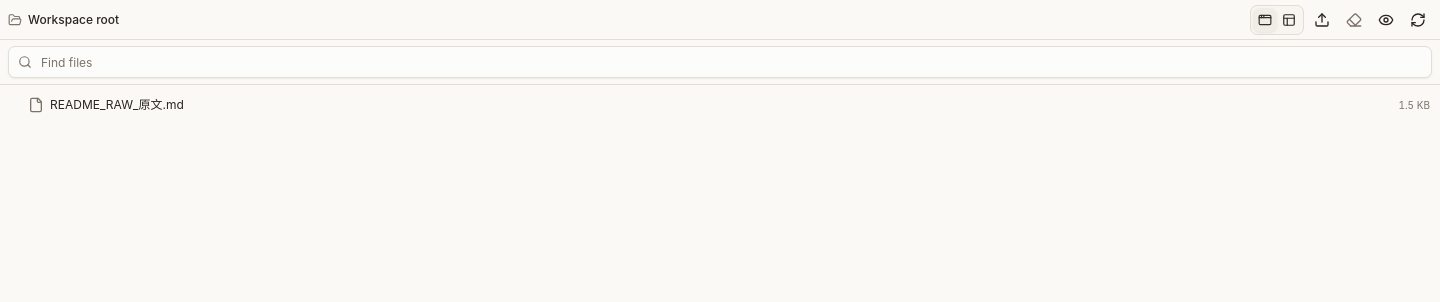
Test: WorkspaceFilesTab › keeps file actions in the context menu and preserves the file name
Expected: the text "Workspace root" is shown, [8,12,119,28]
Expected: the button named "Upload file to workspace uploads" is shown, [1308,6,1336,34]
Right-click the list item "README_RAW_原文.md" at (720, 105), box [4,89,1436,121]
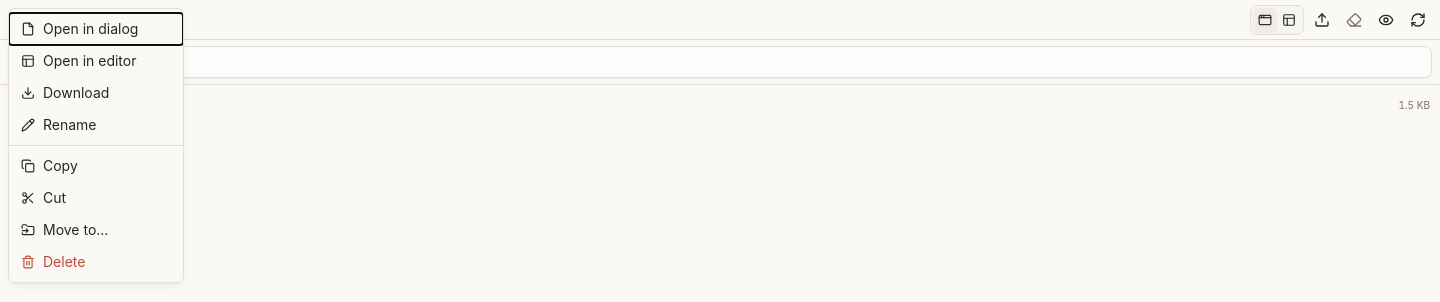
Now the menu item "Open in dialog" is shown, box [9,13,183,45]
Now the menu item "Open in editor" is shown, box [9,45,183,77]
Now the menu item "Download" is shown, box [9,77,183,109]
